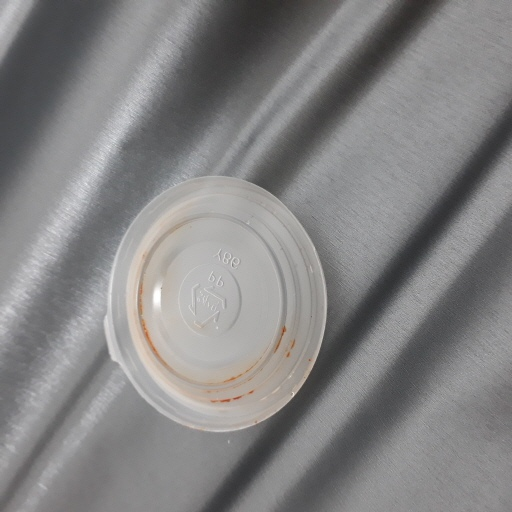Plastic_5: (101, 171, 329, 435)
